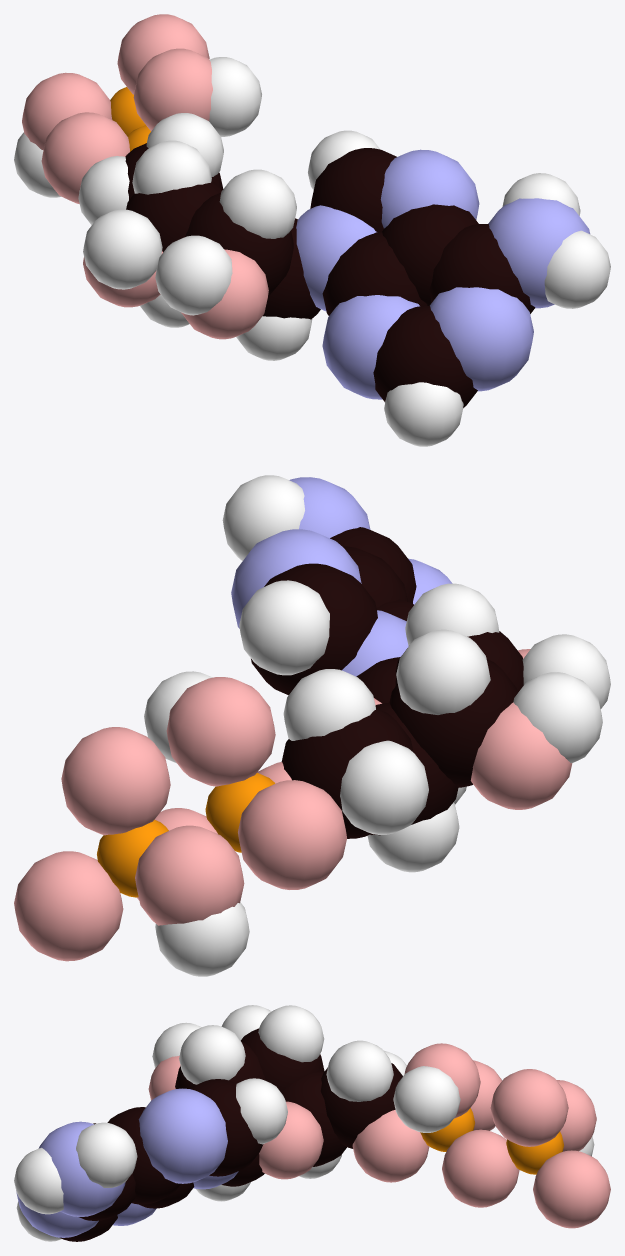
Rendered from adpballs.fbx.
The picture shows the model from 3 angles, top to bottom: view 1: azimuth 30°, elevation 25°; view 2: azimuth 150°, elevation 25°; view 3: azimuth 270°, elevation 25°; orthographic projection. The views are drawn at different scales.
Parts seen in each view (by area): view 1: ATP_ideal_b_cpkbasesphere_18, ATP_ideal_b_cpkbasesphere_17, ATP_ideal_b_cpkbasesphere_19, ATP_ideal_b_cpkbasesphere_16, ATP_ideal_b_cpkbasesphere_22, ATP_ideal_b_cpkbasesphere_8, ATP_ideal_b_cpkbasesphere_35, ATP_ideal_b_cpkbasesphere_6, ATP_ideal_b_cpkbasesphere_36, ATP_ideal_b_cpkbasesphere_21, ATP_ideal_b_cpkbasesphere_20, ATP_ideal_b_cpkbasesphere_15 (+23 smaller); view 2: ATP_ideal_b_cpkbasesphere_36, ATP_ideal_b_cpkbasesphere_35, ATP_ideal_b_cpkbasesphere_38, ATP_ideal_b_cpkbasesphere_40, ATP_ideal_b_cpkbasesphere_39, ATP_ideal_b_cpkbasesphere_28, ATP_ideal_b_cpkbasesphere_4, ATP_ideal_b_cpkbasesphere_12, ATP_ideal_b_cpkbasesphere_9, ATP_ideal_b_cpkbasesphere_29, ATP_ideal_b_cpkbasesphere_23, ATP_ideal_b_cpkbasesphere_32 (+20 smaller); view 3: ATP_ideal_b_cpkbasesphere_22, ATP_ideal_b_cpkbasesphere_40, ATP_ideal_b_cpkbasesphere_38, ATP_ideal_b_cpkbasesphere_34, ATP_ideal_b_cpkbasesphere_33, ATP_ideal_b_cpkbasesphere_19, ATP_ideal_b_cpkbasesphere_13, ATP_ideal_b_cpkbasesphere_11, ATP_ideal_b_cpkbasesphere_30, ATP_ideal_b_cpkbasesphere_2, ATP_ideal_b_cpkbasesphere_7, ATP_ideal_b_cpkbasesphere_9 (+26 smaller).
Boxes of the visible parts, bbox=[...] form: ATP_ideal_b_cpkbasesphere_18: bbox=[430, 287, 533, 391]; ATP_ideal_b_cpkbasesphere_17: bbox=[373, 306, 477, 408]; ATP_ideal_b_cpkbasesphere_19: bbox=[488, 198, 590, 308]; ATP_ideal_b_cpkbasesphere_16: bbox=[322, 295, 419, 399]; ATP_ideal_b_cpkbasesphere_22: bbox=[380, 149, 479, 228]; ATP_ideal_b_cpkbasesphere_8: bbox=[83, 209, 162, 289]; ATP_ideal_b_cpkbasesphere_35: bbox=[133, 48, 212, 131]; ATP_ideal_b_cpkbasesphere_6: bbox=[155, 235, 232, 315]; ATP_ideal_b_cpkbasesphere_36: bbox=[41, 112, 129, 203]; ATP_ideal_b_cpkbasesphere_21: bbox=[382, 204, 478, 305]; ATP_ideal_b_cpkbasesphere_20: bbox=[429, 224, 535, 313]; ATP_ideal_b_cpkbasesphere_15: bbox=[322, 232, 427, 315]; ATP_ideal_b_cpkbasesphere_36: bbox=[238, 780, 346, 889]; ATP_ideal_b_cpkbasesphere_35: bbox=[166, 677, 275, 786]; ATP_ideal_b_cpkbasesphere_38: bbox=[14, 851, 123, 961]; ATP_ideal_b_cpkbasesphere_40: bbox=[61, 727, 170, 835]; ATP_ideal_b_cpkbasesphere_39: bbox=[135, 825, 244, 925]; ATP_ideal_b_cpkbasesphere_28: bbox=[470, 702, 572, 809]; ATP_ideal_b_cpkbasesphere_4: bbox=[239, 580, 329, 675]; ATP_ideal_b_cpkbasesphere_12: bbox=[340, 740, 428, 834]; ATP_ideal_b_cpkbasesphere_9: bbox=[396, 629, 490, 714]; ATP_ideal_b_cpkbasesphere_29: bbox=[389, 659, 517, 787]; ATP_ideal_b_cpkbasesphere_23: bbox=[251, 563, 377, 695]; ATP_ideal_b_cpkbasesphere_32: bbox=[281, 708, 413, 838]; ATP_ideal_b_cpkbasesphere_22: bbox=[138, 1088, 227, 1183]; ATP_ideal_b_cpkbasesphere_40: bbox=[490, 1069, 568, 1146]; ATP_ideal_b_cpkbasesphere_38: bbox=[533, 1150, 610, 1228]; ATP_ideal_b_cpkbasesphere_34: bbox=[442, 1129, 519, 1207]; ATP_ideal_b_cpkbasesphere_33: bbox=[352, 1110, 429, 1182]; ATP_ideal_b_cpkbasesphere_19: bbox=[38, 1121, 125, 1216]; ATP_ideal_b_cpkbasesphere_13: bbox=[393, 1066, 460, 1132]; ATP_ideal_b_cpkbasesphere_11: bbox=[326, 1040, 393, 1101]; ATP_ideal_b_cpkbasesphere_30: bbox=[259, 1101, 323, 1179]; ATP_ideal_b_cpkbasesphere_2: bbox=[76, 1122, 137, 1187]; ATP_ideal_b_cpkbasesphere_7: bbox=[179, 1025, 245, 1084]; ATP_ideal_b_cpkbasesphere_9: bbox=[258, 1005, 324, 1062].
Size of the model in its own units: 10.33 by 5.51 by 15.94.
